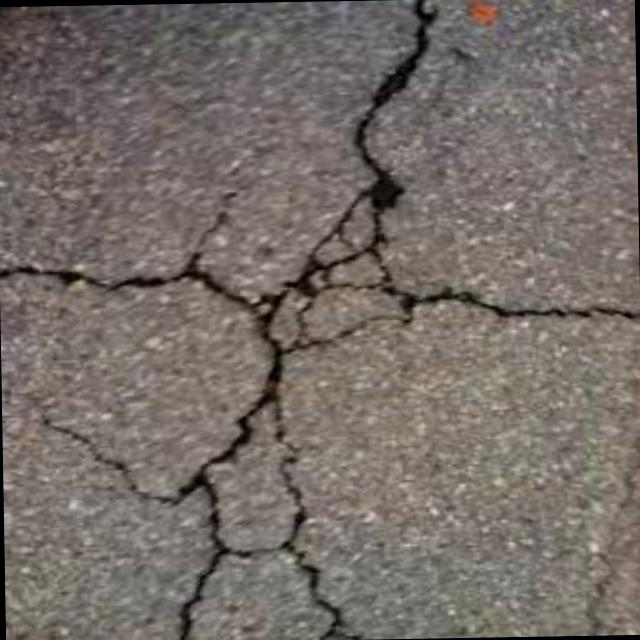crack: (166, 355, 359, 640), (276, 0, 441, 285), (0, 259, 242, 327), (40, 412, 206, 511), (242, 284, 416, 356), (414, 284, 638, 328), (178, 194, 245, 270)
